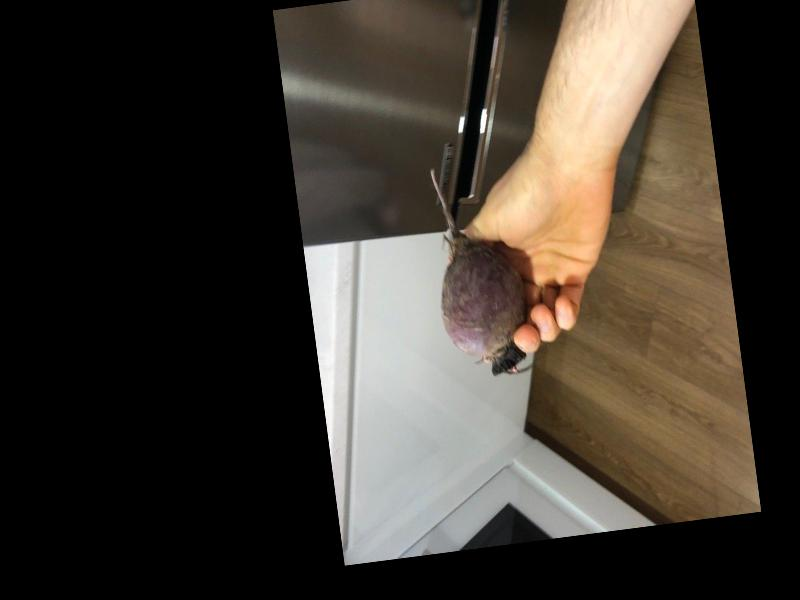Beet: (423, 160, 535, 383)
